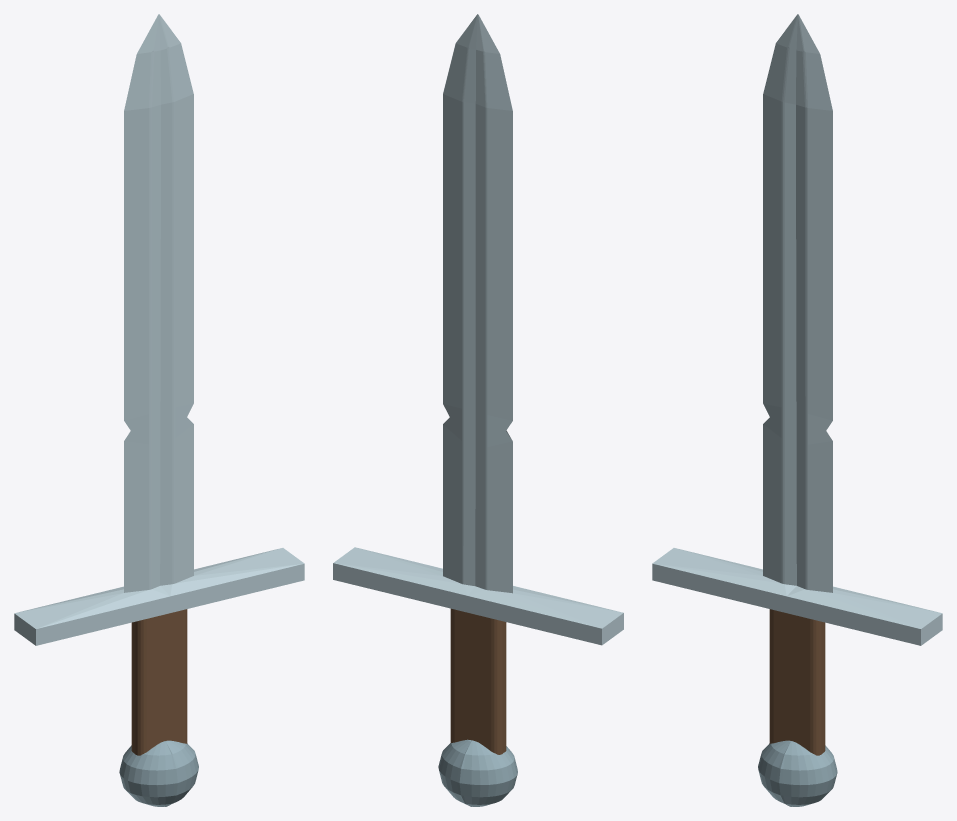
File: sword.fbx
The picture shows the model from 3 angles, left to right: view 1: azimuth 30°, elevation 25°; view 2: azimuth 150°, elevation 25°; view 3: azimuth 330°, elevation 25°; orthographic projection.
Visible parts, largest first — view 1: Sword; view 2: Sword; view 3: Sword.
Boxes of the visible parts, x1,y1,x2,y2 form: Sword: (14, 14, 304, 806); Sword: (333, 14, 623, 806); Sword: (652, 14, 942, 806).
Size of the model in its own units: 380 by 1066 by 91.17.
Materials: 1 (1 with a texture image).
